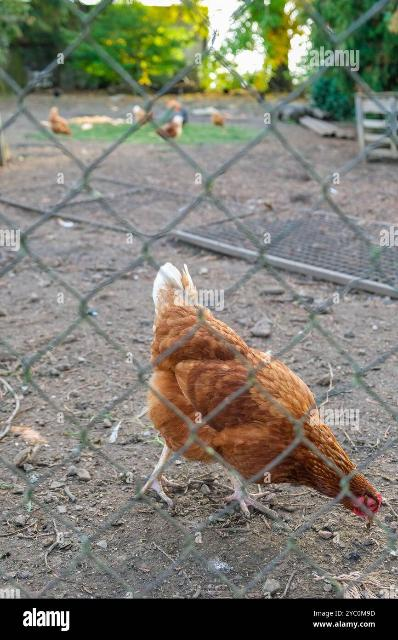Chicken: (143, 261, 384, 525)
